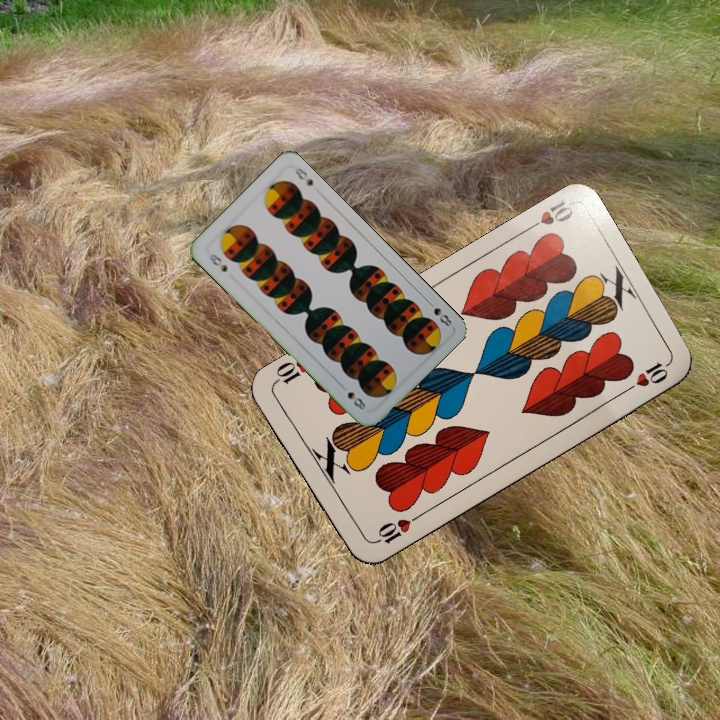H10: (520, 196, 576, 235), (368, 510, 422, 547)
S8: (422, 296, 455, 329), (203, 249, 230, 275)
